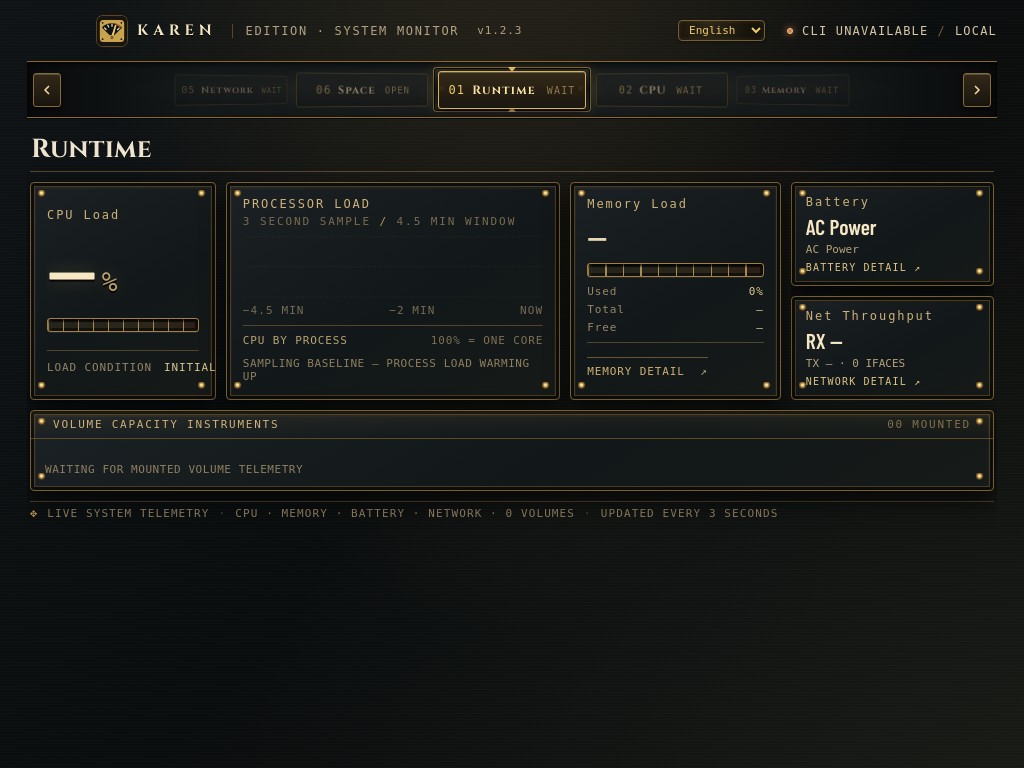
Scenario: Karen desktop interface › host and telemetry › shows a fault when the CLI sidecar cannot start
Click the button "06 Space OPEN" at (362, 90), box x1=296 y1=72 x2=428 y2=107
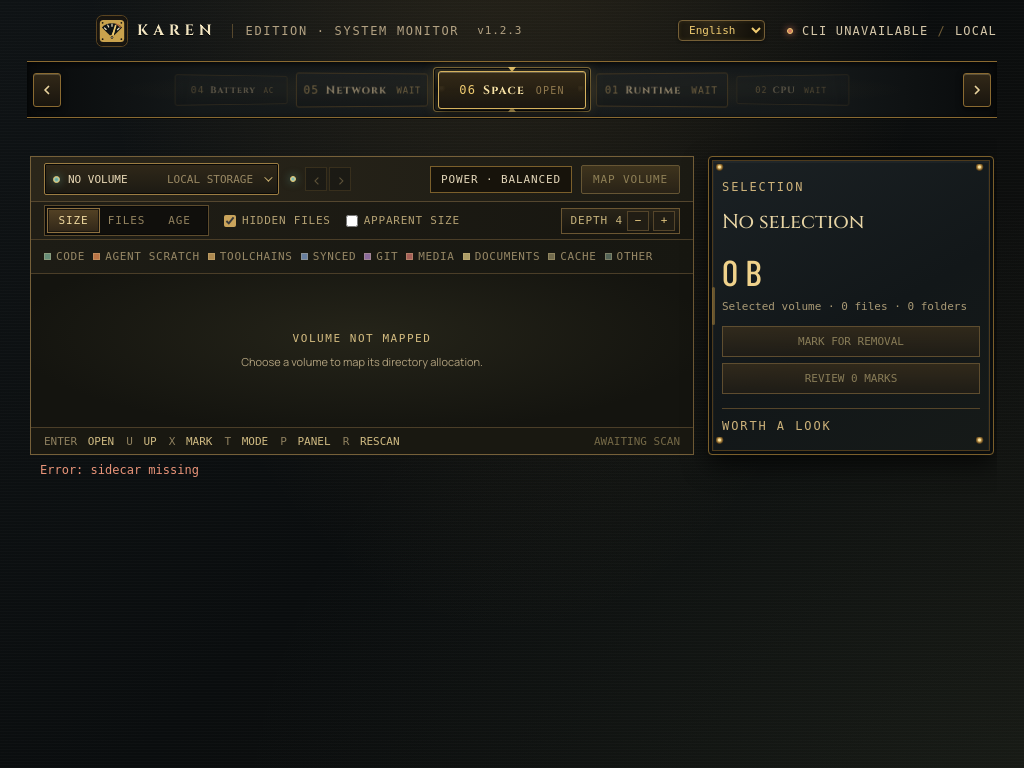
Expected: the element with class "fault" is shown, x1=787 y1=24 x2=997 y2=38
Now the message "Error: sidecar missing" is shown, box x1=40 y1=463 x2=199 y2=477
